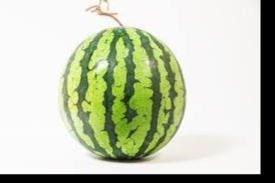watermelon: (55, 25, 186, 161)
